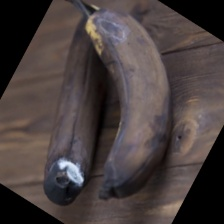banana: (6, 8, 198, 181)
